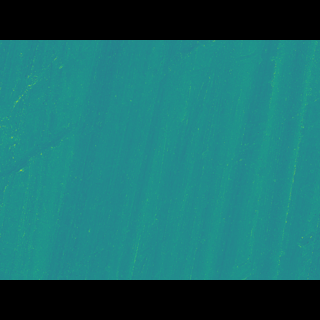Loch: (0, 75, 283, 176)
